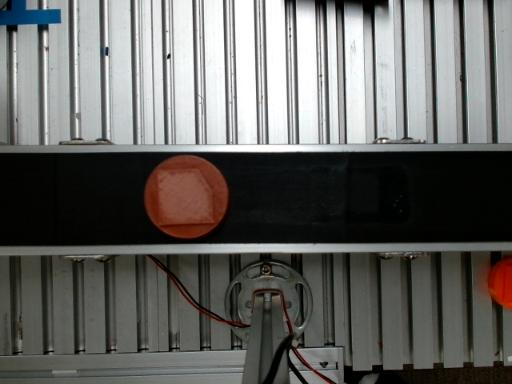Brown_Waper: (143, 155, 228, 238)
Not_Square: (157, 168, 216, 225)
